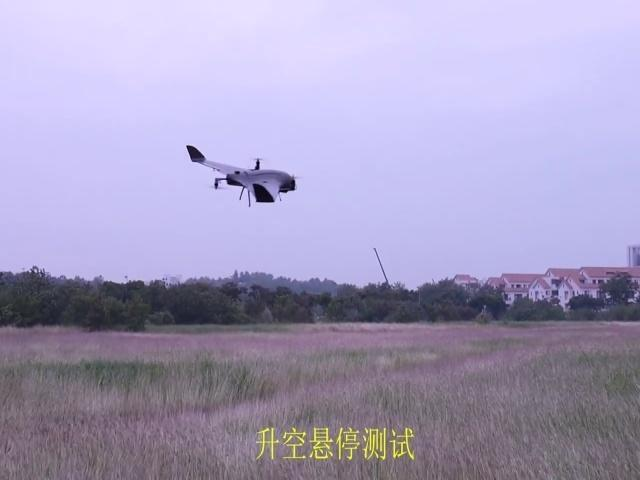Airplane: (186, 145, 297, 207)
